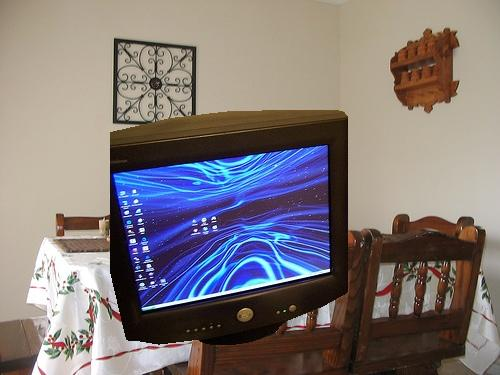tampered: (111, 111, 348, 345)
